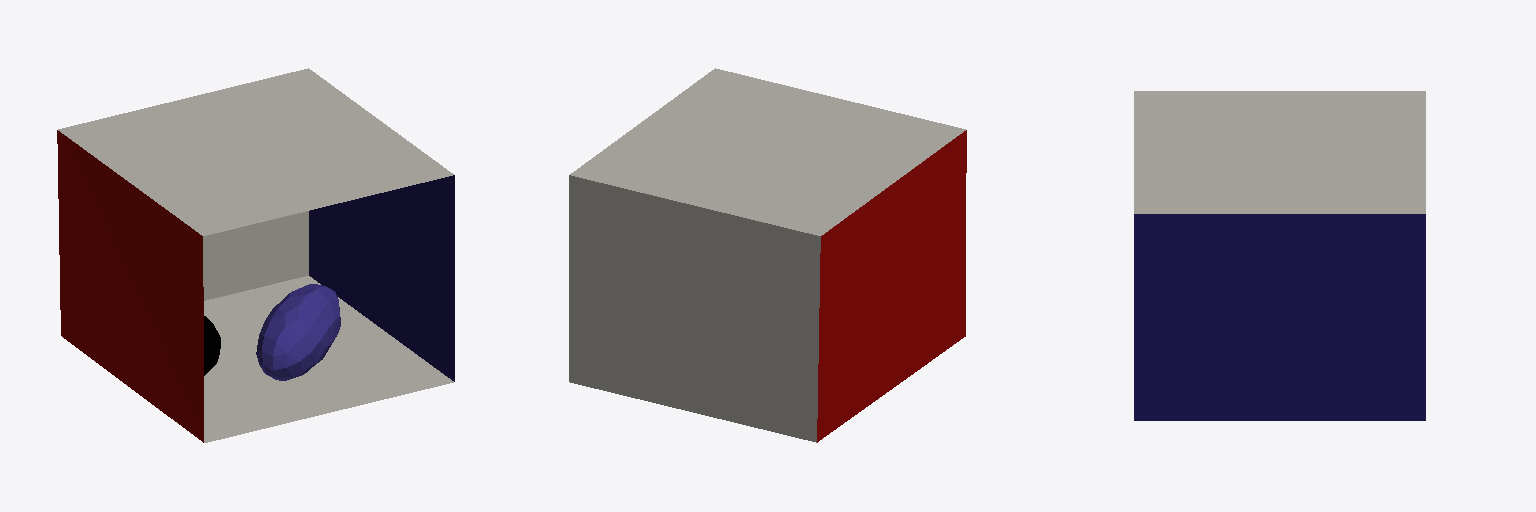
File: CornellBox-Ellipsoid-422.obj
The picture shows the model from 3 angles: view 1: azimuth 30°, elevation 25°; view 2: azimuth 150°, elevation 25°; view 3: azimuth 270°, elevation 25°; orthographic projection.
Visible parts, largest first — view 1: ceiling, leftWall, rightWall, floor, backWall, leftSphere, rightSphere; view 2: backWall, ceiling, leftWall; view 3: rightWall, ceiling.
Part boxes in pixels (x1,y1,x2,y2): ceiling: (58, 68, 453, 235); leftWall: (57, 130, 203, 442); rightWall: (309, 175, 454, 381); floor: (204, 276, 453, 442); backWall: (203, 211, 308, 300); leftSphere: (256, 284, 340, 380); rightSphere: (204, 316, 220, 375); backWall: (569, 175, 820, 442); ceiling: (570, 68, 965, 235); leftWall: (817, 130, 966, 442); rightWall: (1134, 214, 1425, 420); ceiling: (1134, 91, 1425, 213).
Bounding box in the file's own units: 2.02 × 1.59 × 2.03.